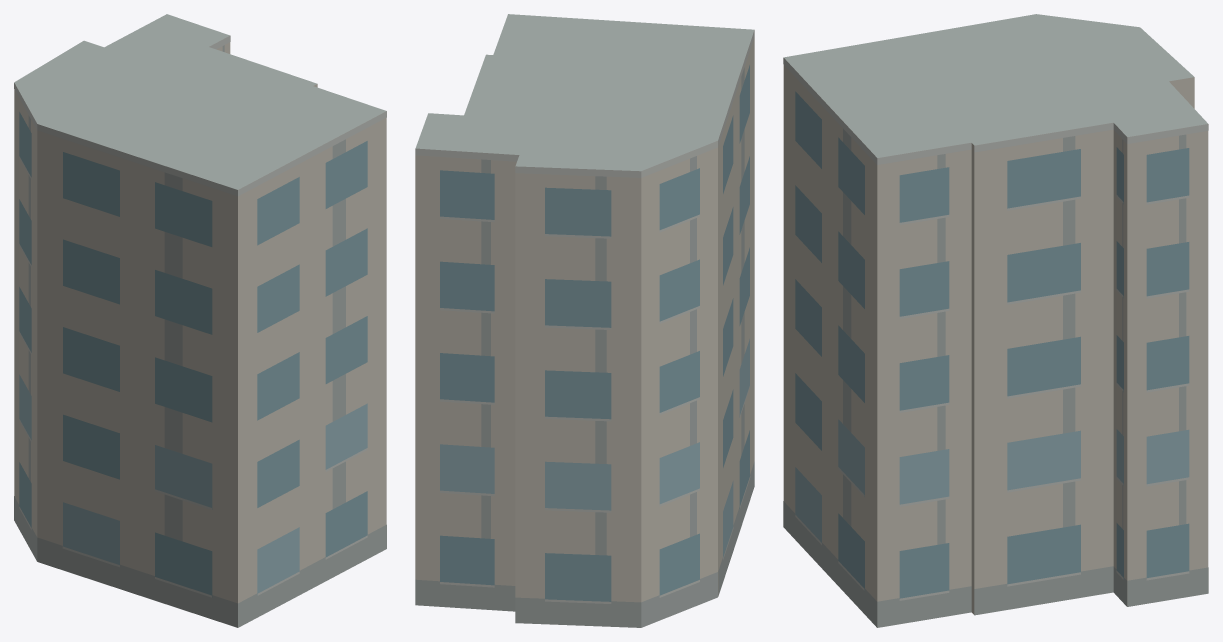
Rendered from survey-upis-32949836.glb.
The picture shows the model from 3 angles, left to right: view 1: azimuth 30°, elevation 25°; view 2: azimuth 150°, elevation 25°; view 3: azimuth 270°, elevation 25°; orthographic projection. The views are drawn at different scales.
Parts seen in each view (by area): view 1: survey-upis-32949836.tmp; view 2: survey-upis-32949836.tmp; view 3: survey-upis-32949836.tmp.
Boxes of the visible parts, x1,y1,x2,y2 form: survey-upis-32949836.tmp: [14, 14, 386, 627]; survey-upis-32949836.tmp: [415, 14, 754, 627]; survey-upis-32949836.tmp: [783, 14, 1208, 627].
Bounding box in the file's own units: 10.87 × 16.5 × 13.54.
